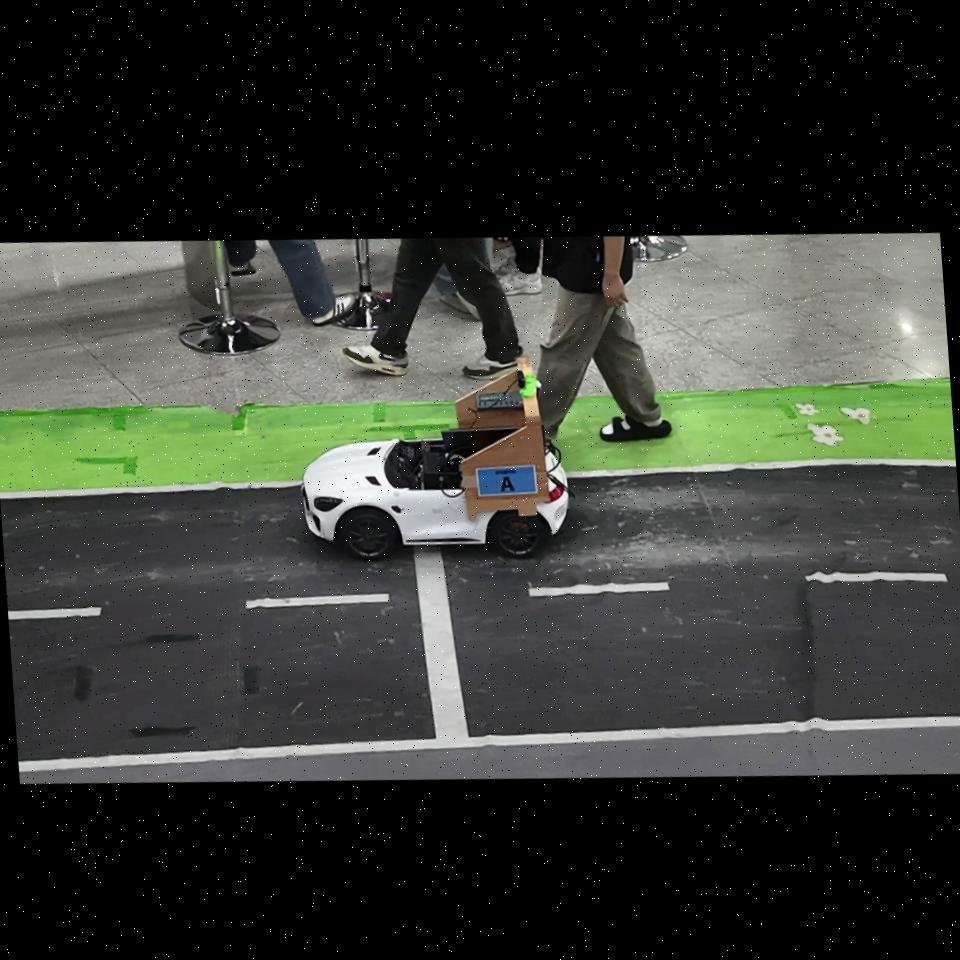broken_line: (246, 594, 389, 609), (528, 582, 669, 597), (805, 571, 948, 583), (8, 607, 102, 620)
